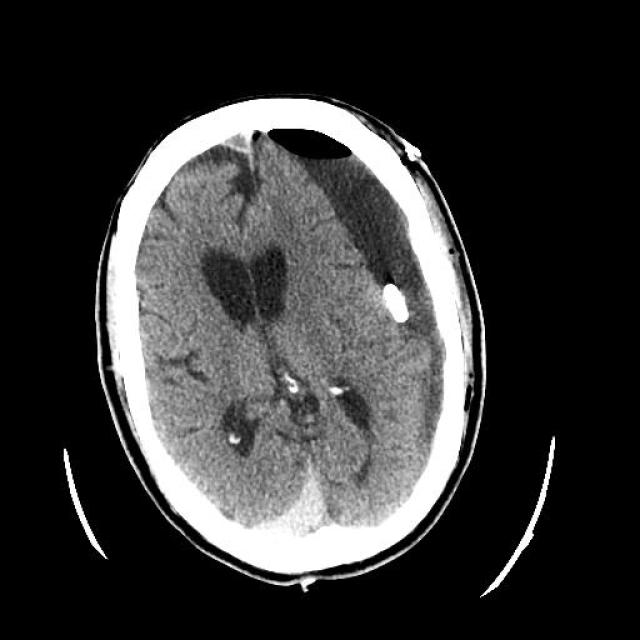Subdural: (240, 458, 342, 544)
